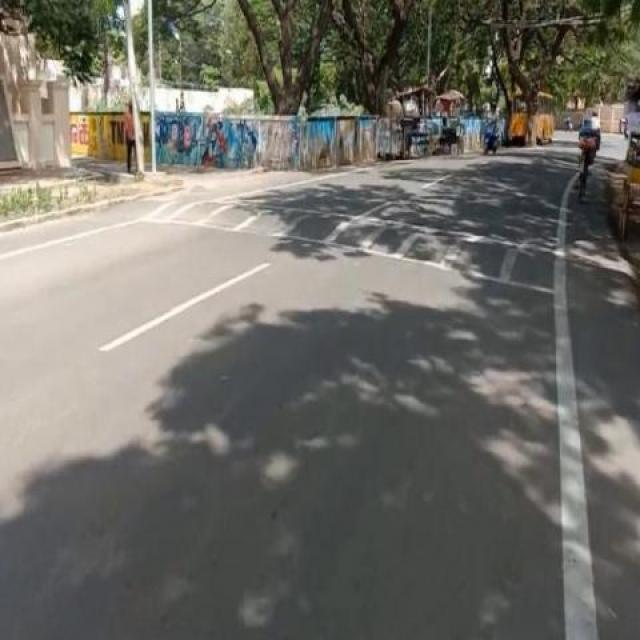Speed Bump: (106, 196, 638, 307)
